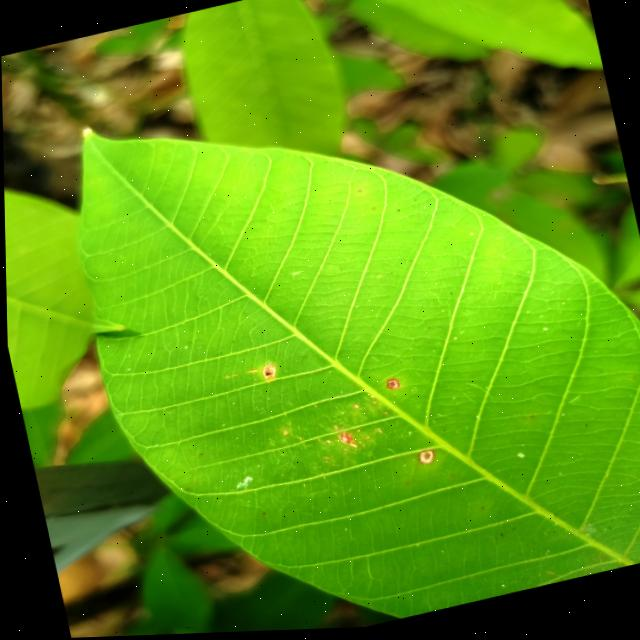Colletotrichum: (414, 451, 433, 469), (381, 380, 398, 395)
